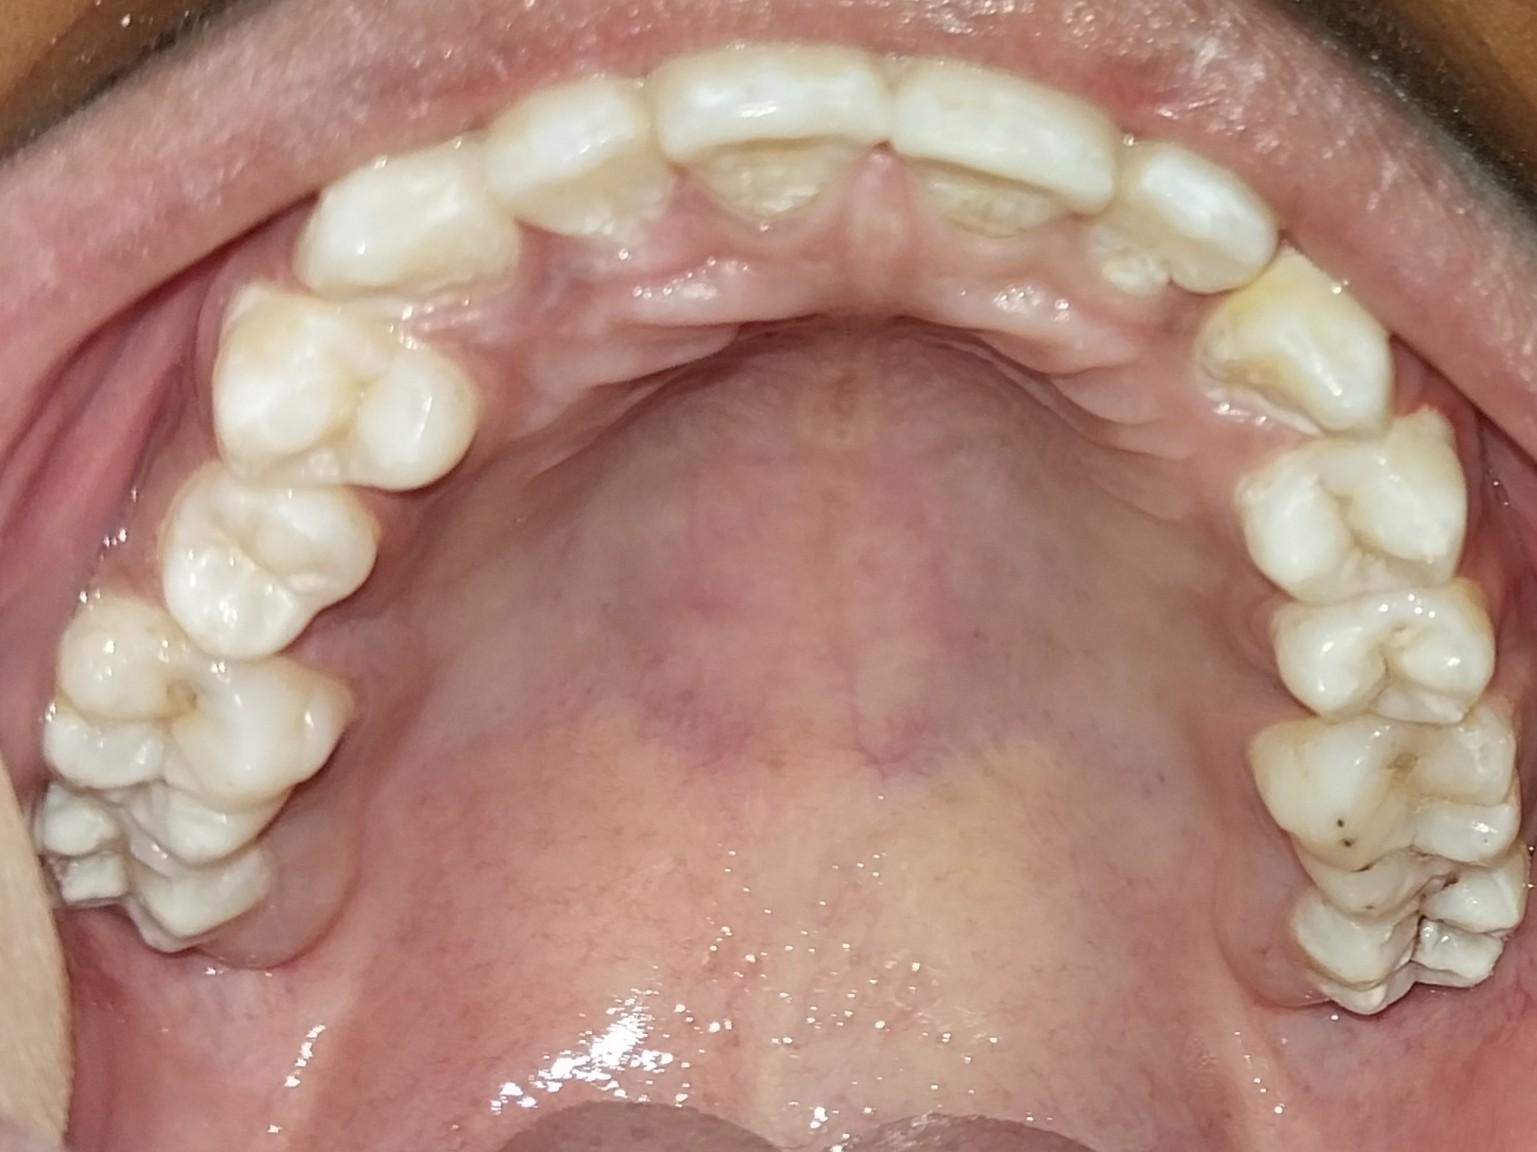D: (1279, 707, 1521, 912), (1306, 870, 1513, 1012)
